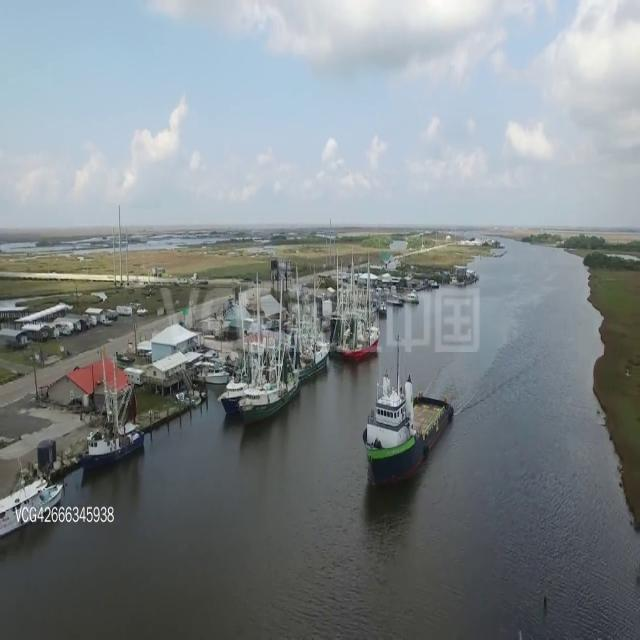fishing boat: (352, 354, 460, 477), (227, 344, 310, 433), (0, 441, 76, 533)
